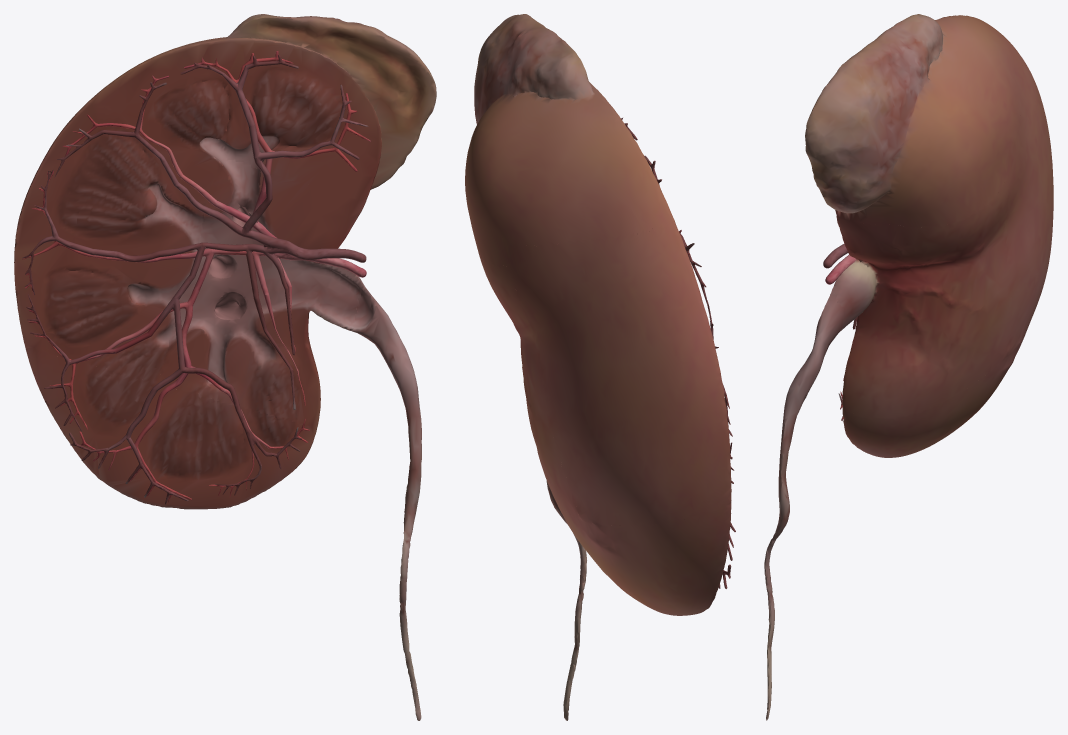
The model's file is kidney_ls.glb.
The picture shows the model from 3 angles, left to right: view 1: azimuth 30°, elevation 25°; view 2: azimuth 150°, elevation 25°; view 3: azimuth 270°, elevation 25°; orthographic projection. The views are drawn at different scales.
Visible parts, largest first — view 1: Object_10, Object_32, Object_5, Object_8, Object_31, Object_33, Object_26, Object_22, Object_24, Object_20, Object_28, Object_17 (+15 smaller); view 2: Object_10, Object_32, Object_8, Object_5, Object_31; view 3: Object_32, Object_5, Object_10, Object_8, Object_31, Object_22.
Part boxes in pixels (box(x1,y1,x2,y2)): Object_10: box(14, 102, 226, 382); Object_32: box(87, 14, 436, 201); Object_5: box(158, 158, 365, 427); Object_8: box(25, 345, 317, 509); Object_31: box(350, 283, 421, 720); Object_33: box(208, 205, 251, 319); Object_26: box(62, 201, 268, 399); Object_22: box(293, 246, 366, 277); Object_24: box(152, 51, 282, 391); Object_20: box(28, 70, 238, 487); Object_28: box(172, 247, 296, 370); Object_17: box(48, 61, 217, 413); Object_10: box(508, 221, 731, 526); Object_32: box(465, 14, 674, 268); Object_8: box(556, 502, 731, 615); Object_5: box(479, 256, 582, 520); Object_31: box(546, 481, 586, 720); Object_32: box(805, 14, 1023, 227); Object_5: box(831, 179, 1012, 419); Object_10: box(947, 47, 1053, 356); Object_8: box(842, 319, 1031, 457); Object_31: box(764, 293, 844, 720); Object_22: box(823, 243, 855, 284).
Size of the model in its own units: 1.44 by 2.91 by 1.15.
